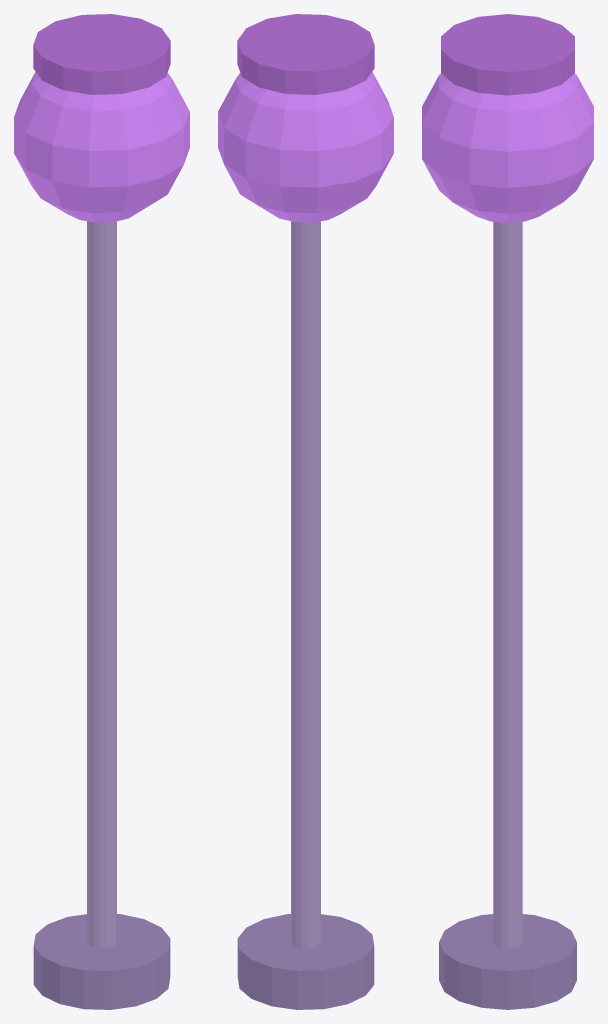
File: den-trang-tri.gltf
3 views of the same model, side by side, from view 1: azimuth 30°, elevation 25°; view 2: azimuth 150°, elevation 25°; view 3: azimuth 270°, elevation 25° (orthographic).
Visible parts, largest first — view 1: pole, top, base, cap; view 2: pole, top, base, cap; view 3: pole, top, base, cap.
Boxes of the visible parts, x1,y1,x2,y2 form: pole: (87,221,116,948); top: (14,71,189,222); base: (33,914,170,1009); cap: (33,14,170,94); pole: (291,221,320,948); top: (218,71,393,222); base: (237,914,374,1009); cap: (237,14,374,94); pole: (493,221,522,948); top: (422,73,593,222); base: (439,914,576,1009); cap: (441,14,574,95).
Bounding box in the file's own units: 0.8189 × 4.81 × 0.7984.
